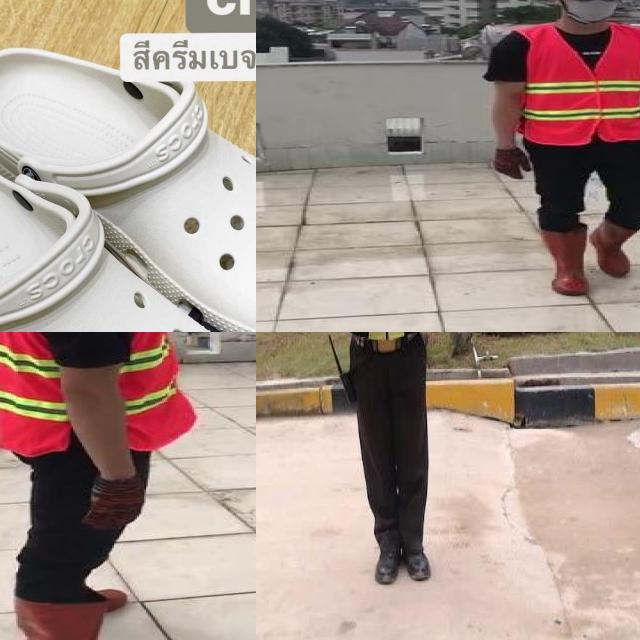Sandals: (0, 19, 256, 332)
boots: (13, 595, 171, 640), (539, 226, 596, 297), (591, 220, 635, 278), (403, 537, 435, 585), (374, 538, 403, 588)
face_mask: (564, 0, 624, 22)
hand_glove: (86, 476, 144, 530), (493, 150, 532, 179)
person: (256, 332, 574, 600), (0, 332, 244, 640), (477, 0, 640, 300)
vest: (0, 332, 194, 456), (521, 25, 640, 144)
